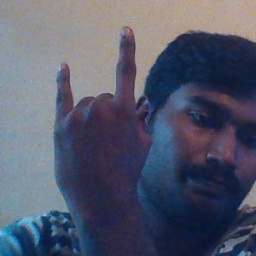V: (48, 23, 157, 198)
